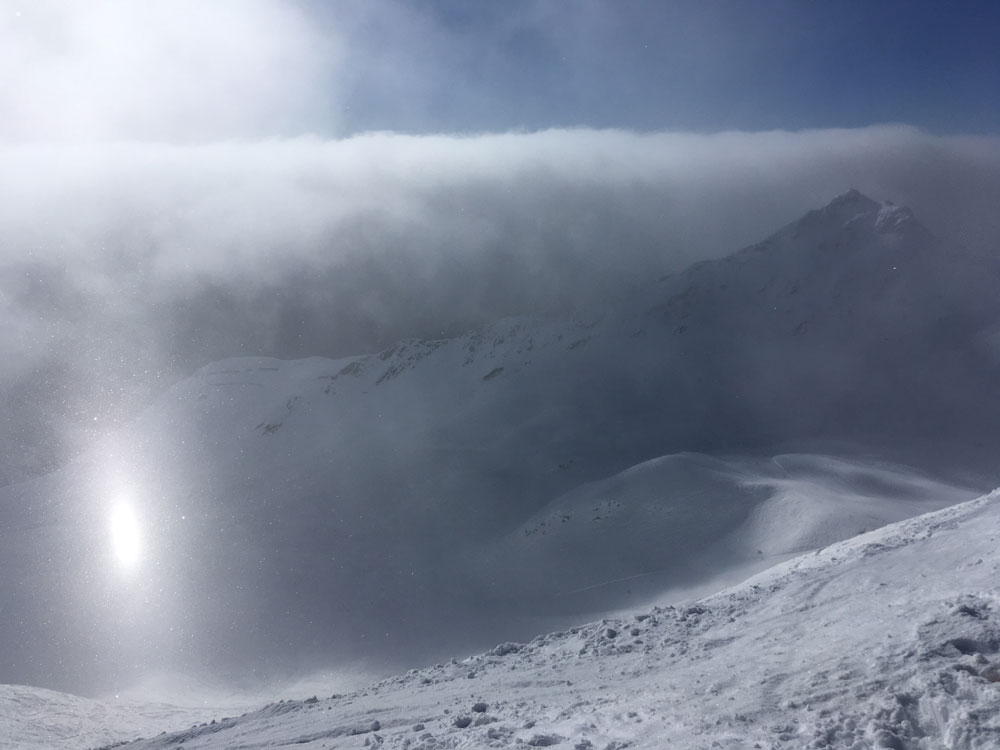Stratus: (8, 103, 1000, 309)
